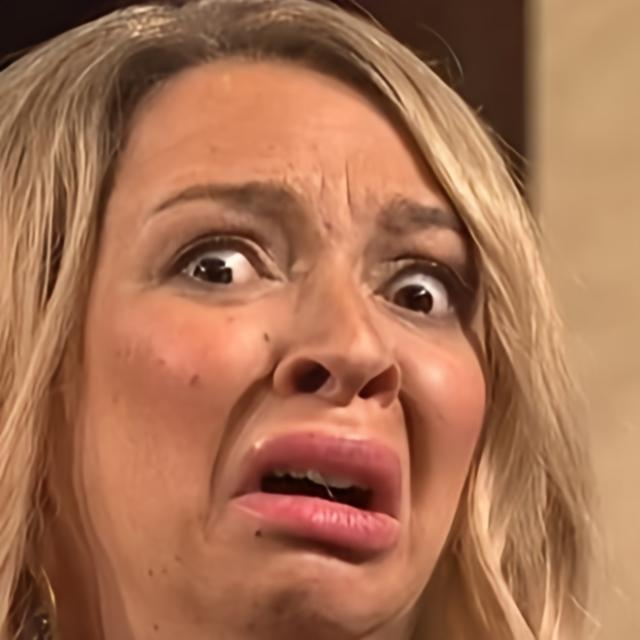disgust: (56, 48, 487, 640)
